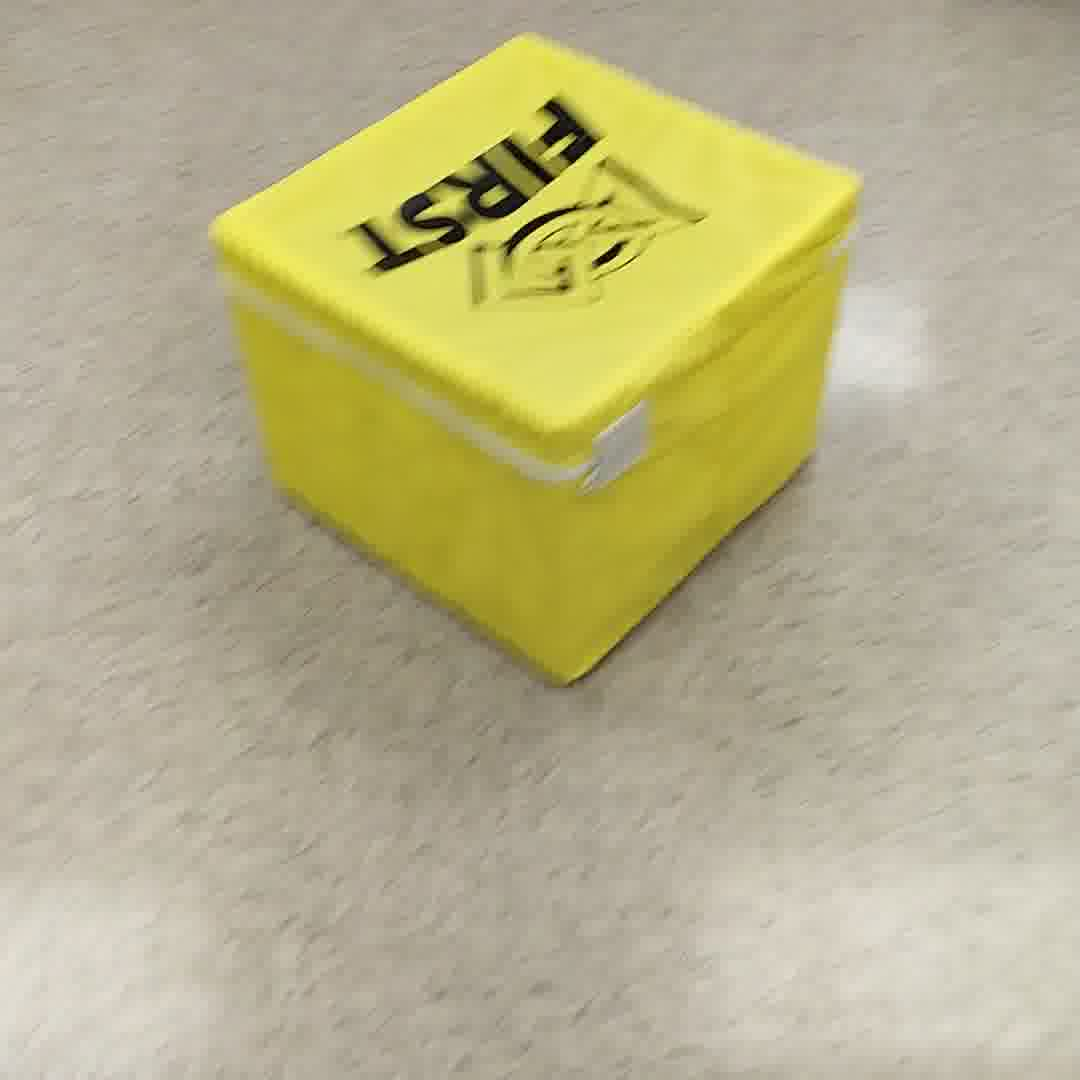box: (204, 29, 868, 679)
